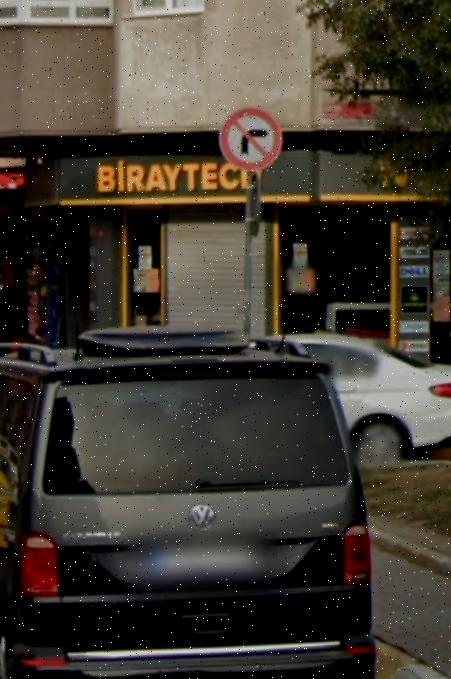rightturnsareforbidden: (213, 100, 291, 175)
